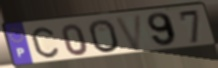0: (60, 22, 90, 57)
7: (177, 10, 203, 45)
9: (147, 11, 180, 48)
C: (30, 26, 61, 59)
O: (88, 19, 122, 55)
V: (113, 12, 144, 52)
